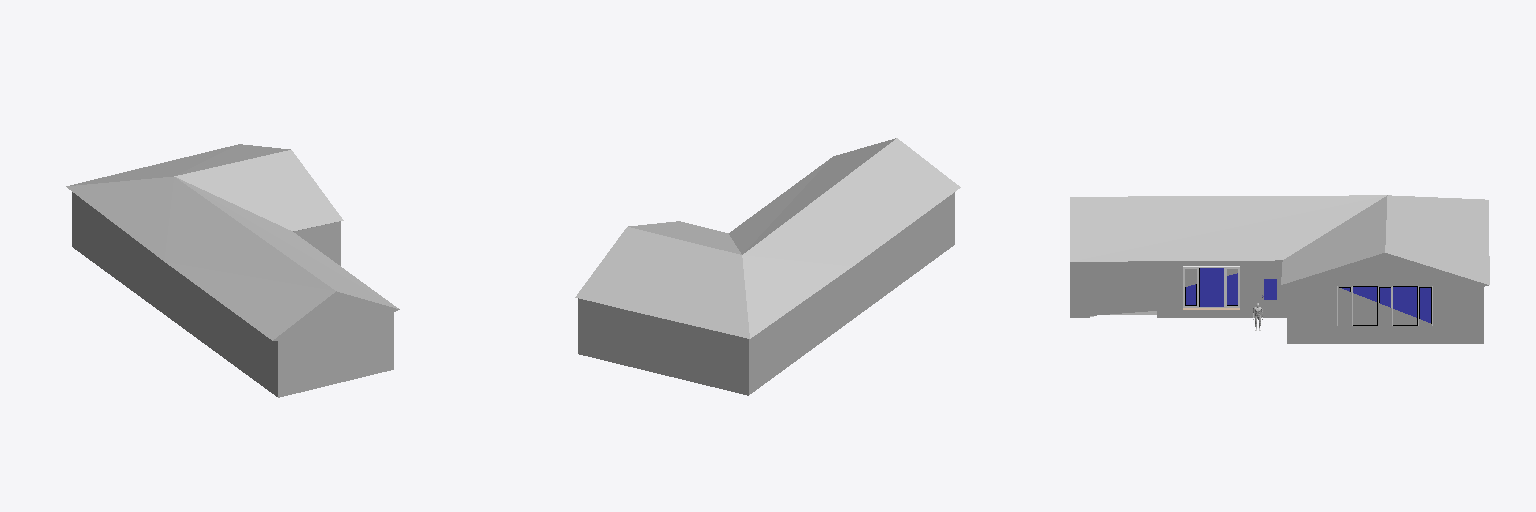
The model's file is House.obj.
3 renders of one model, left to right at view 1: azimuth 30°, elevation 25°; view 2: azimuth 150°, elevation 25°; view 3: azimuth 270°, elevation 25°, orthographic.
Parts seen in each view (by area): view 1: Cube; view 2: Cube; view 3: Cube.
Part boxes in pixels (left/top/right/bottom): Cube: left=66, top=144, right=399, bottom=397; Cube: left=575, top=138, right=960, bottom=395; Cube: left=1070, top=195, right=1489, bottom=343.
Bounding box in the file's own units: 1234 × 632 × 2535.